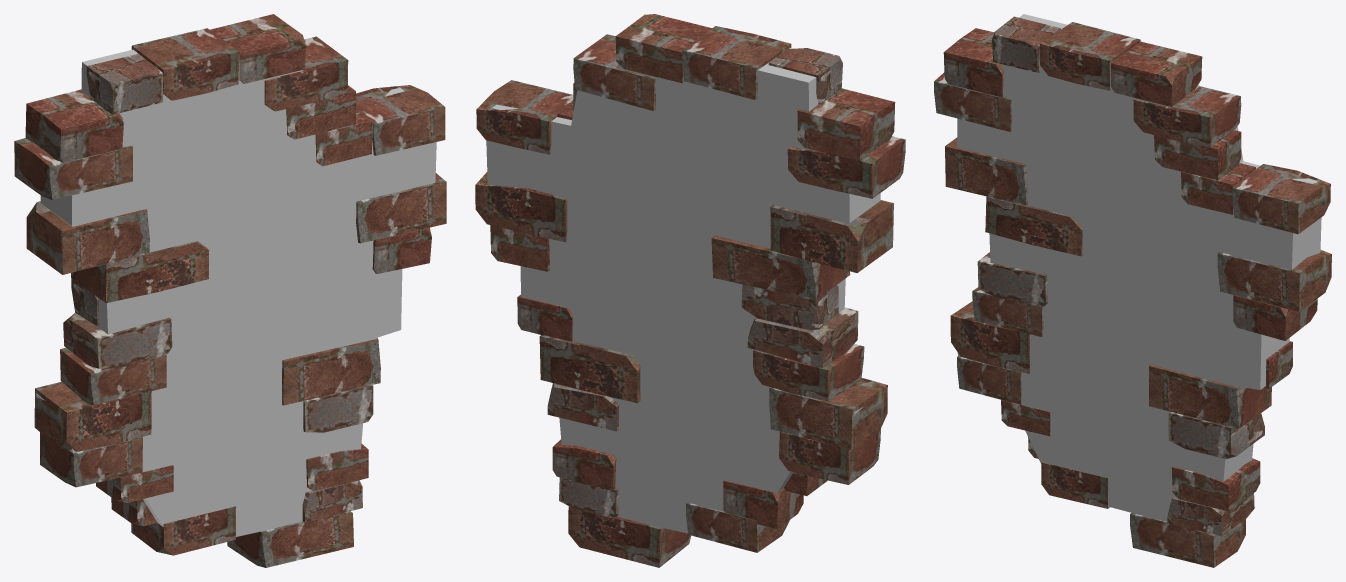
Rendered from SM_Wall_Ruined_31.fbx.
3 renders of one model, left to right at view 1: azimuth 30°, elevation 25°; view 2: azimuth 150°, elevation 25°; view 3: azimuth 330°, elevation 25°, orthographic. The views are drawn at different scales.
Parts seen in each view (by area): view 1: SM_Wall_Ruined_31_LOD0; view 2: SM_Wall_Ruined_31_LOD0; view 3: SM_Wall_Ruined_31_LOD0.
Part boxes in pixels (x1,y1,x2,y2): SM_Wall_Ruined_31_LOD0: (14, 14, 446, 567); SM_Wall_Ruined_31_LOD0: (475, 14, 905, 567); SM_Wall_Ruined_31_LOD0: (934, 14, 1331, 567).
Size of what is drawn, in the model's own units: 369 by 465 by 60.04.
